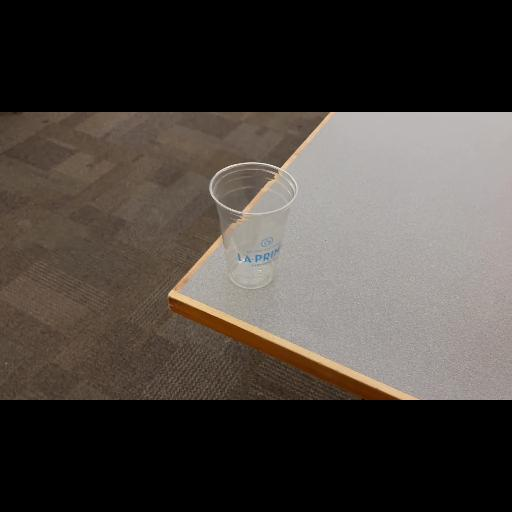lp_plastic_cup: (208, 160, 298, 292)
